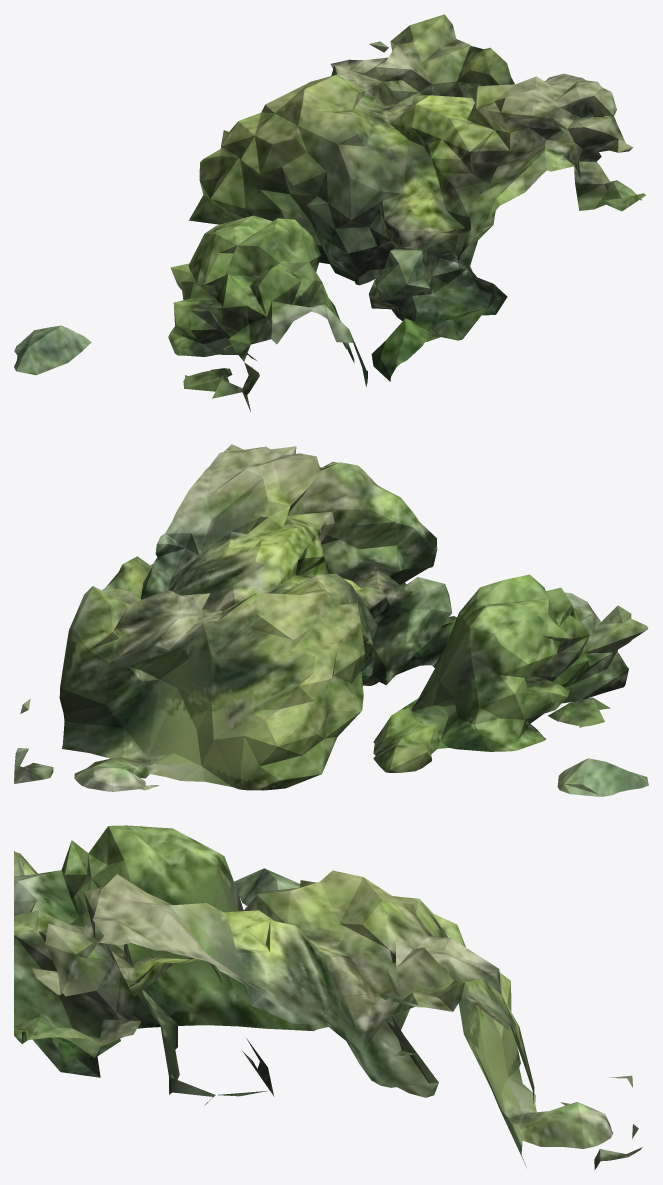
3 renders of one model, top to bottom at view 1: azimuth 30°, elevation 25°; view 2: azimuth 150°, elevation 25°; view 3: azimuth 270°, elevation 25°, orthographic. The views are drawn at different scales.
Bounding box in the file's own units: 39.46 × 15.14 × 36.01.
Materials: 2 (2 with a texture image).
